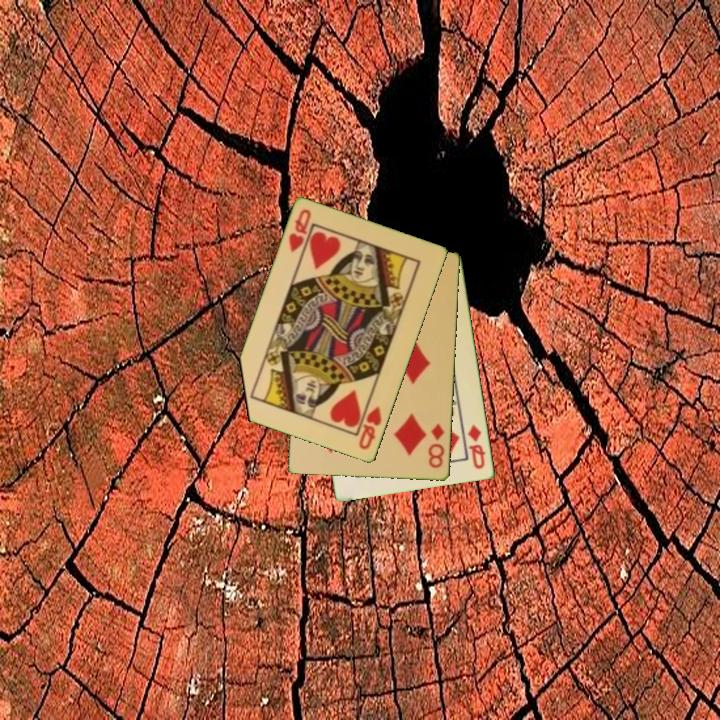8d: (425, 420, 447, 471)
Qd: (465, 421, 489, 472)
Qh: (355, 403, 385, 453), (285, 206, 314, 256)
